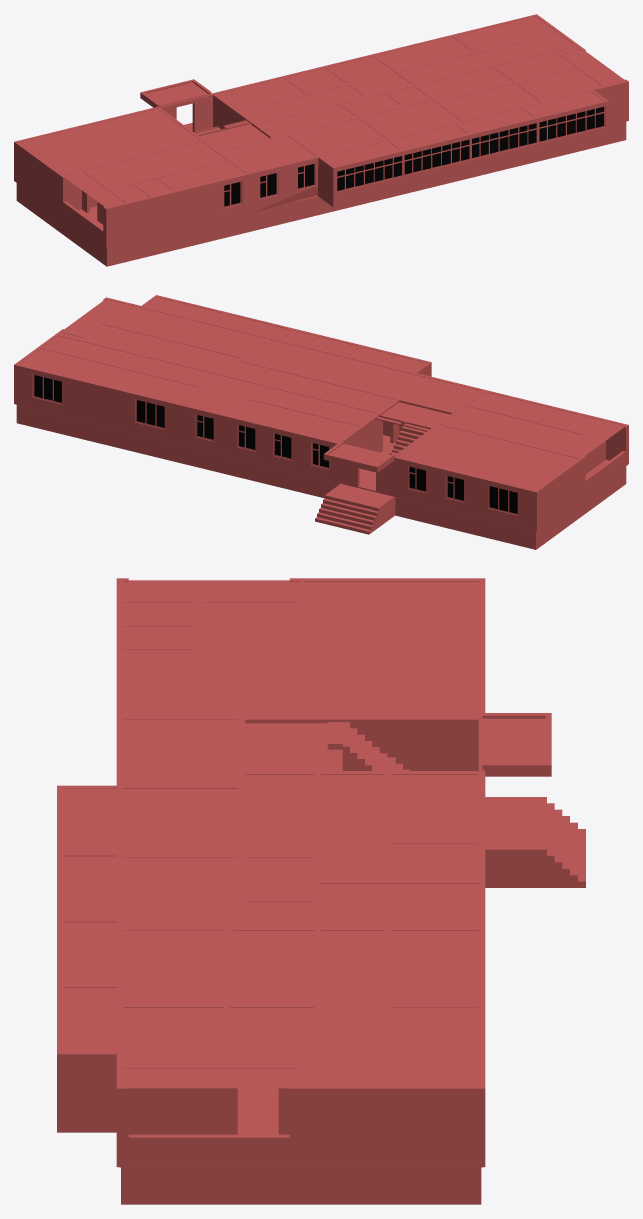
Rendered from SM_house_section_12.fbx.
The picture shows the model from 3 angles, top to bottom: view 1: azimuth 30°, elevation 25°; view 2: azimuth 150°, elevation 25°; view 3: azimuth 270°, elevation 25°; orthographic projection. The views are drawn at different scales.
Visible parts, largest first — view 1: Boole_2; view 2: Boole_2; view 3: Boole_2.
Boxes of the visible parts, x1=… form: Boole_2: x1=14, y1=14, x2=628, y2=266; Boole_2: x1=14, y1=295, x2=628, y2=549; Boole_2: x1=57, y1=578, x2=585, y2=1204.
Bounding box in the file's own units: 3492 × 391 × 1530.
